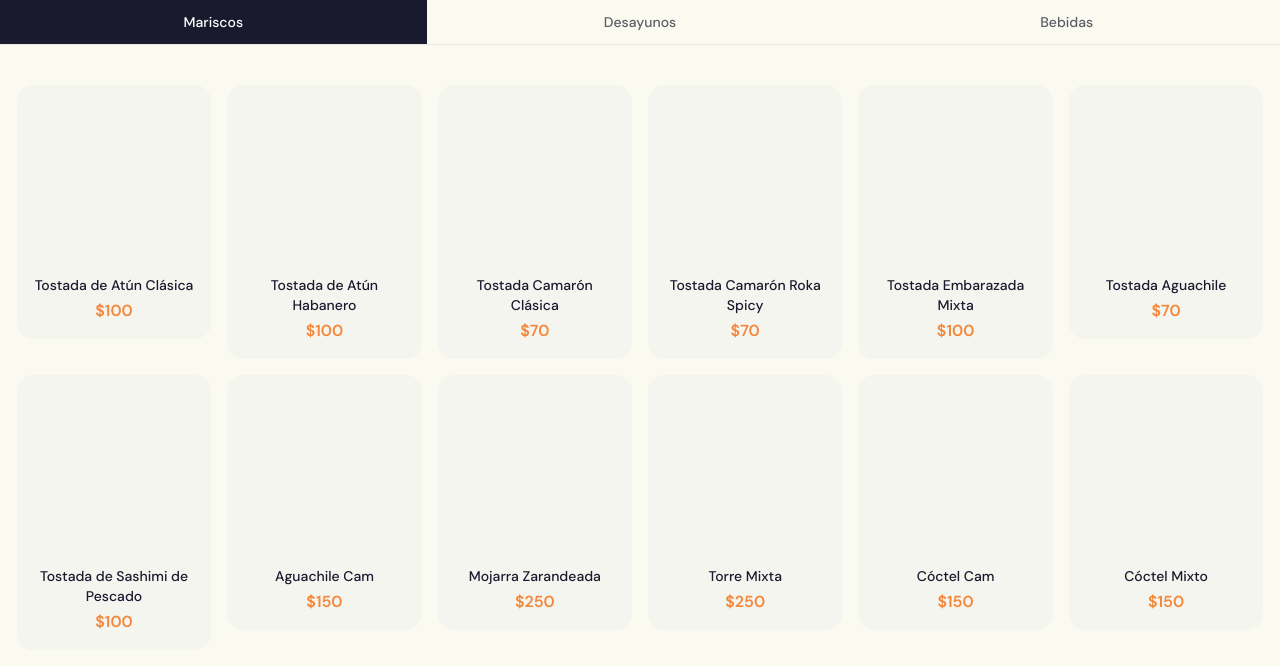
Scenario: Menu Page Integration — Filtrado y Modal › clicking the close button (aria-label="Cerrar") closes the modal
This screenshot has width=1280, height=666.
// Open the modal
Click the button "Tostada de Atún Clásica $100". click: (114, 212)
box: 17,85 -> 211,339
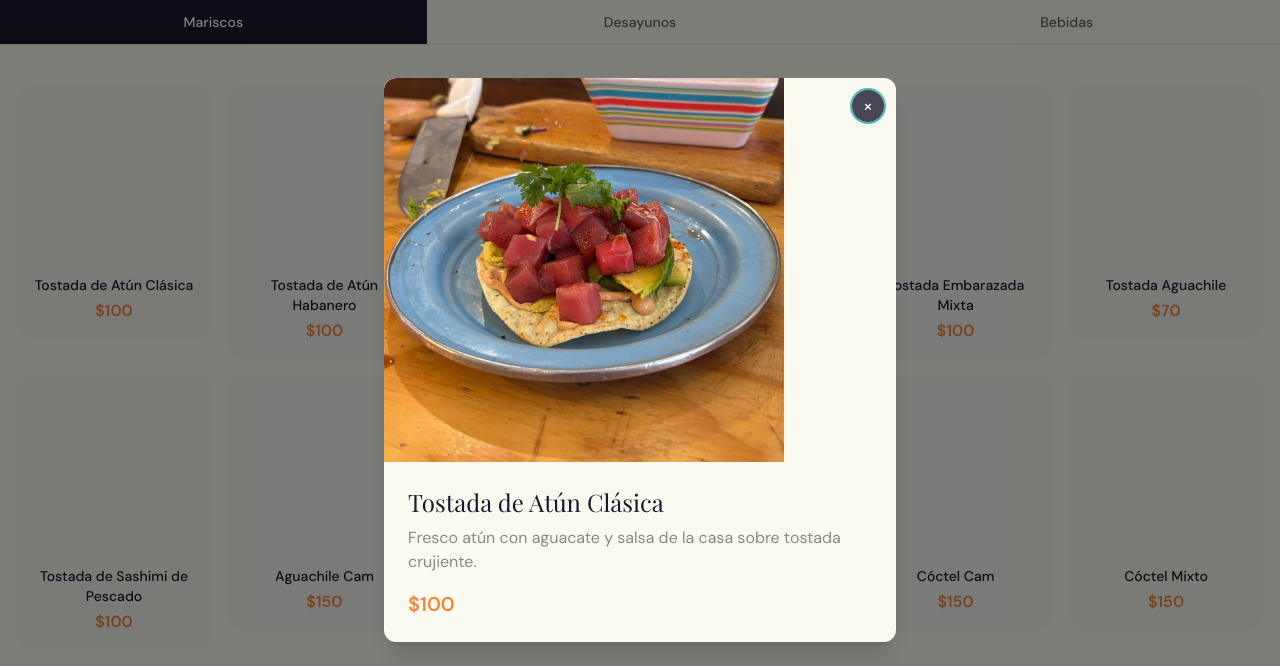
Expected: the dialog is shown, 384,78 -> 896,642
// Click the close button
Click the button named "Cerrar". click: (868, 106)
box: 852,90 -> 884,122
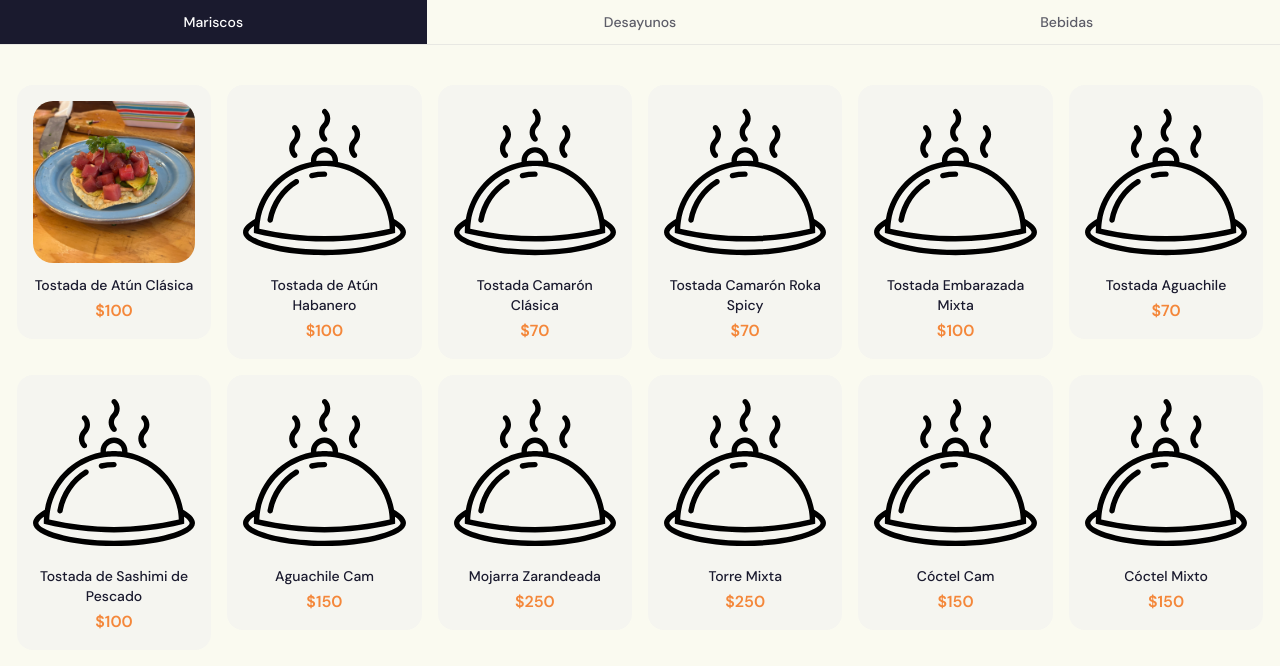
Expected: the dialog is gone
